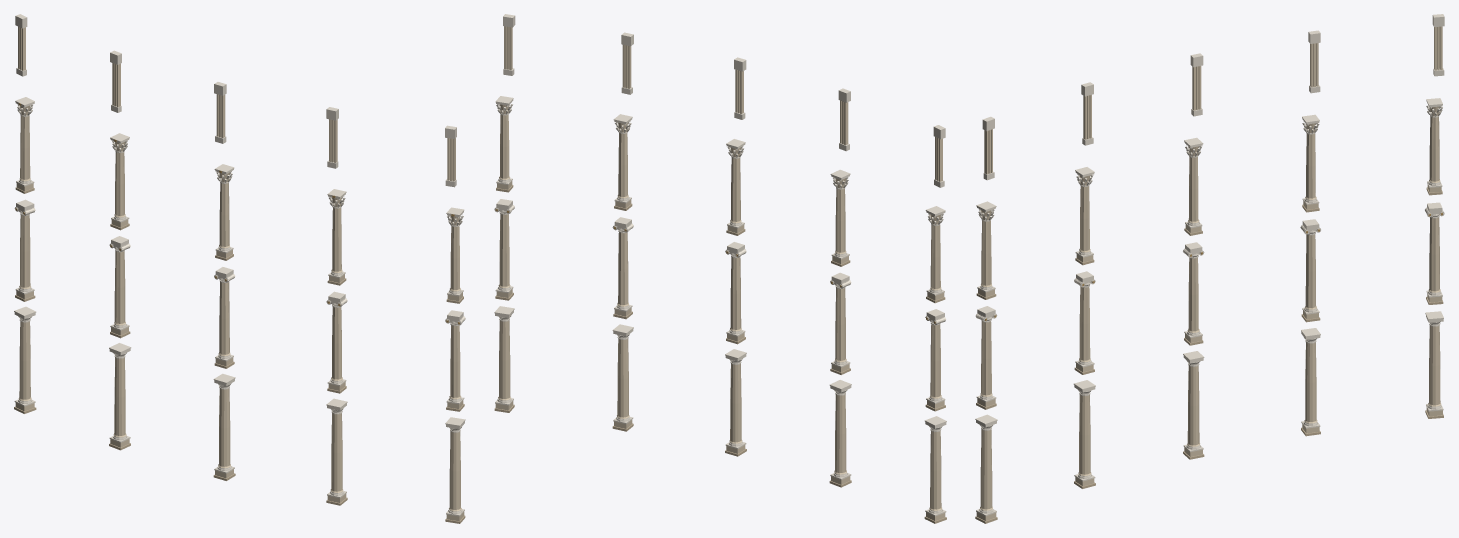
File: COL_ColumnOrders_O4.glb
The picture shows the model from 3 angles, left to right: view 1: azimuth 30°, elevation 25°; view 2: azimuth 210°, elevation 25°; view 3: azimuth 270°, elevation 25°; orthographic projection.
Parts seen in each view (by area): view 1: COL_ColumnOrders_O4; view 2: COL_ColumnOrders_O4; view 3: COL_ColumnOrders_O4.
Boxes of the visible parts, left/top/right/bottom form: COL_ColumnOrders_O4: left=14, top=14, right=465, bottom=523; COL_ColumnOrders_O4: left=494, top=14, right=946, bottom=523; COL_ColumnOrders_O4: left=975, top=14, right=1444, bottom=523.
Bounding box in the file's own units: 35.33 × 58.2 × 62.16.
